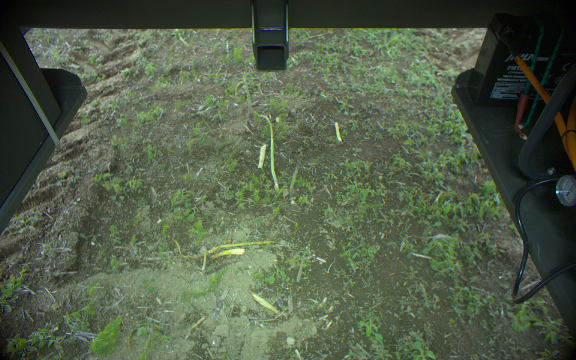aspa: (249, 108, 282, 197), (285, 162, 303, 202), (241, 75, 253, 108)
